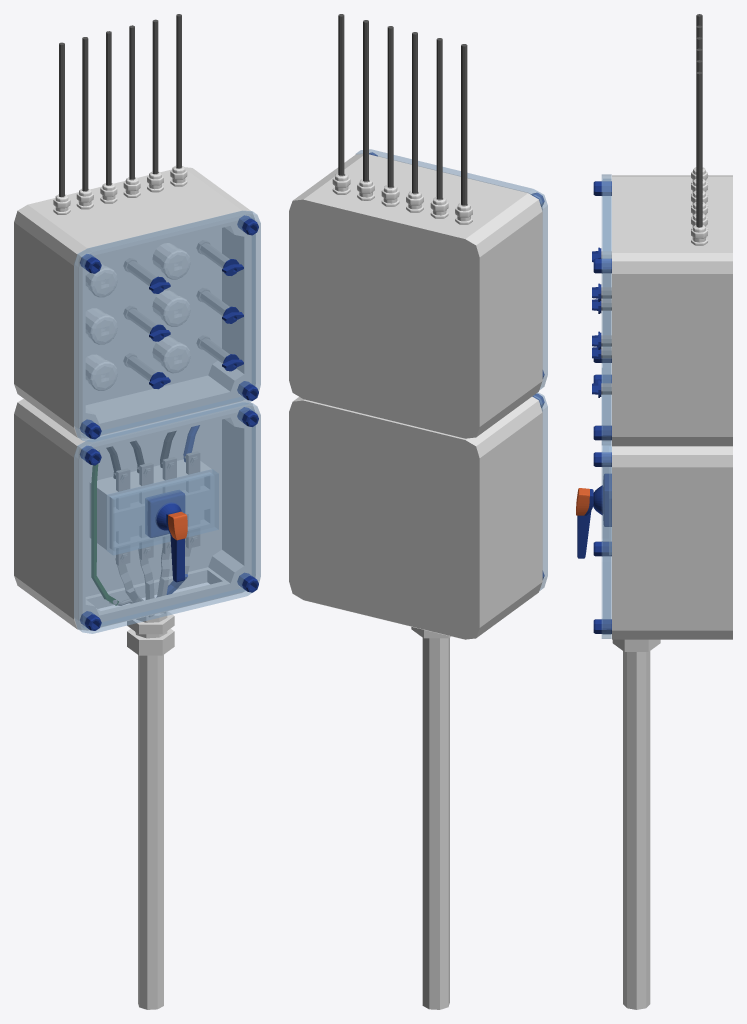
File: Sub-Distributor-V001-8.fbx
3 views of the same model, side by side, from view 1: azimuth 30°, elevation 25°; view 2: azimuth 150°, elevation 25°; view 3: azimuth 270°, elevation 25° (orthographic). The views are drawn at different scales.
Visible parts, largest first — view 1: 000-Box, 002-box-cover.001, 001-box-cover, 000-Box.001, 07-swifel-L, 002-little-switchbox, 01-swifel-cables, little-switchbox-cover, 001-Box, Hand-switch, 01-swifels, 01-Holec--turnswitch (+8 smaller); view 2: 000-Box, 000-Box.001, 07-swifel-L, 01-swifel-cables, 001-box-cover, 01-swifels, 002-box-cover.001; view 3: 000-Box, 000-Box.001, 07-swifel-L, 001-box-cover, 002-box-cover.001, Hand-switch, 01-swifel-cables, 01-swifels, 01-Holec--turnswitch, 001-Box.
Boxes of the visible parts, x1=… form: 000-Box: x1=14, y1=167, x2=255, y2=438; 002-box-cover.001: x1=74, y1=402, x2=260, y2=633; 001-box-cover: x1=74, y1=210, x2=260, y2=442; 000-Box.001: x1=14, y1=399, x2=255, y2=630; 07-swifel-L: x1=127, y1=611, x2=174, y2=1009; 002-little-switchbox: x1=89, y1=451, x2=211, y2=565; 01-swifel-cables: x1=59, y1=14, x2=181, y2=196; little-switchbox-cover: x1=107, y1=469, x2=218, y2=554; 001-Box: x1=123, y1=240, x2=229, y2=381; Hand-switch: x1=145, y1=490, x2=187, y2=582; 01-swifels: x1=53, y1=166, x2=187, y2=214; 01-Holec--turnswitch: x1=149, y1=259, x2=243, y2=389; 000-Box: x1=289, y1=154, x2=542, y2=438; 000-Box.001: x1=289, y1=396, x2=542, y2=639; 07-swifel-L: x1=411, y1=627, x2=450, y2=1009; 01-swifel-cables: x1=338, y1=14, x2=467, y2=205; 001-box-cover: x1=355, y1=149, x2=547, y2=389; 01-swifels: x1=332, y1=173, x2=472, y2=224; 002-box-cover.001: x1=532, y1=392, x2=547, y2=590; 000-Box: x1=612, y1=175, x2=732, y2=446; 000-Box.001: x1=612, y1=446, x2=732, y2=639; 07-swifel-L: x1=612, y1=639, x2=660, y2=1009; 001-box-cover: x1=601, y1=174, x2=611, y2=445; 002-box-cover.001: x1=601, y1=368, x2=611, y2=638; Hand-switch: x1=576, y1=473, x2=611, y2=558; 01-swifel-cables: x1=696, y1=14, x2=702, y2=227; 01-swifels: x1=691, y1=167, x2=708, y2=245; 01-Holec--turnswitch: x1=592, y1=247, x2=601, y2=397; 001-Box: x1=601, y1=251, x2=611, y2=394.
Size of the model in its own units: 200 by 1000 by 148.
